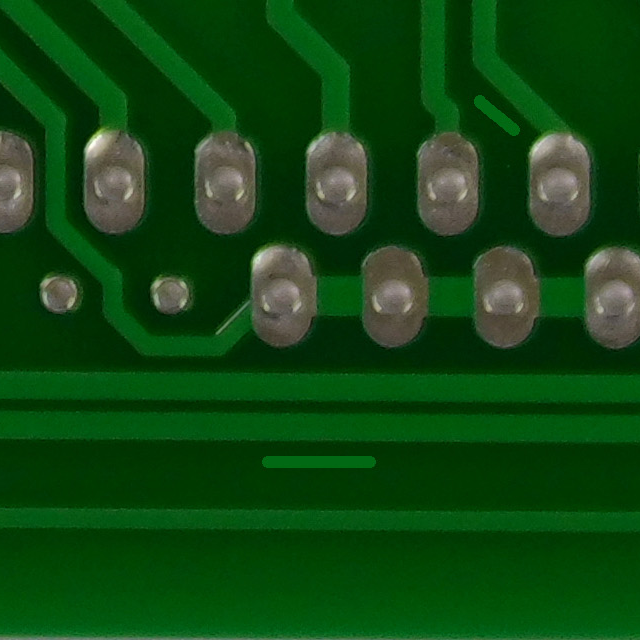spurious_copper: (249, 437, 392, 498), (449, 78, 533, 150)
